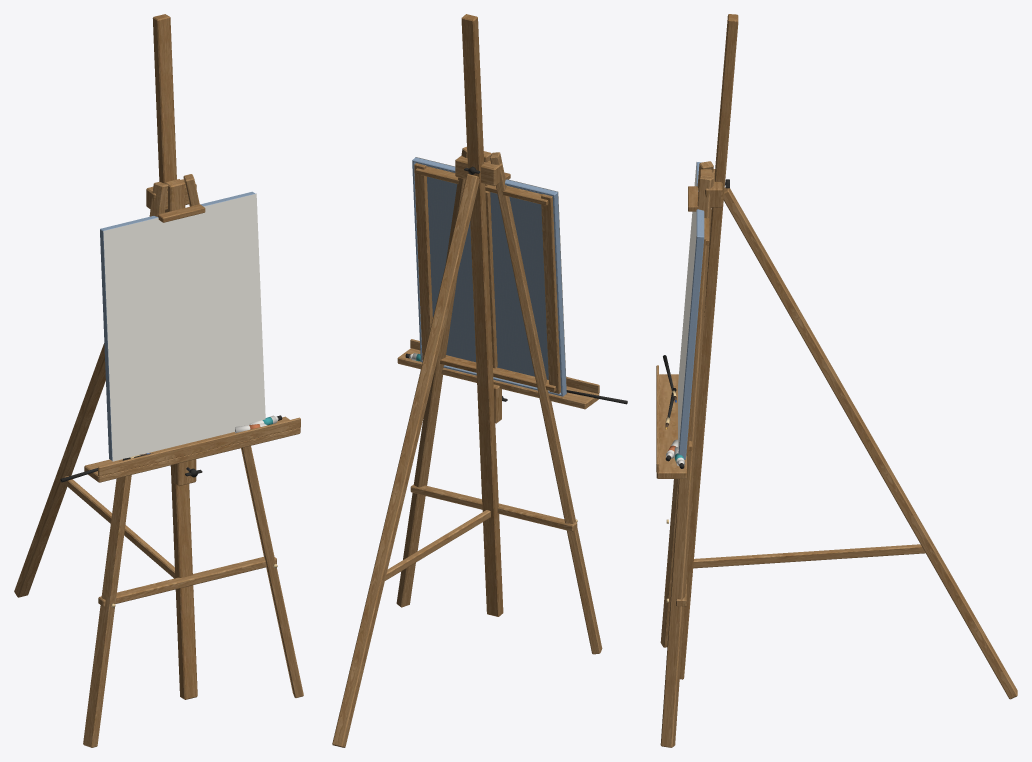
The model's file is sztaluga.glb.
3 renders of one model, left to right at view 1: azimuth 30°, elevation 25°; view 2: azimuth 150°, elevation 25°; view 3: azimuth 270°, elevation 25°, orthographic. The views are drawn at different scales.
Parts seen in each view (by area): view 1: plotno_front, maszt, noga_-1, noga_tyl, noga_1, polka_listwa, poprzeczka, polka, rozporka, len_b-1, docisk, polka_wspornik; view 2: len_tyl, maszt, noga_tyl, noga_-1, noga_1, blejtram_b-1, blejtram_b1, poprzeczka, polka, len_b-1, rozporka, blejtram_s (+5 smaller); view 3: noga_tyl, maszt, noga_1, rozporka, len_b1, polka, plotno_front, noga_-1.
Part boxes in pixels (bbox=[...]): plotno_front: bbox=[103, 193, 265, 461]; maszt: bbox=[152, 14, 197, 699]; noga_-1: bbox=[83, 181, 168, 747]; noga_tyl: bbox=[14, 343, 105, 597]; noga_1: bbox=[183, 174, 303, 697]; polka_listwa: bbox=[98, 417, 300, 476]; poprzeczka: bbox=[98, 556, 276, 606]; polka: bbox=[84, 416, 300, 482]; rozporka: bbox=[63, 476, 186, 587]; len_b-1: bbox=[100, 228, 112, 458]; docisk: bbox=[165, 179, 185, 212]; polka_wspornik: bbox=[172, 459, 196, 485]; len_tyl: bbox=[426, 165, 566, 394]; maszt: bbox=[461, 14, 503, 616]; noga_tyl: bbox=[332, 174, 479, 747]; noga_-1: bbox=[490, 152, 602, 654]; noga_1: bbox=[396, 146, 467, 607]; blejtram_b-1: bbox=[541, 194, 560, 393]; blejtram_b1: bbox=[414, 163, 432, 360]; poprzeczka: bbox=[410, 484, 577, 531]; polka: bbox=[397, 348, 599, 409]; len_b-1: bbox=[552, 191, 566, 395]; rozporka: bbox=[385, 510, 490, 580]; blejtram_s: bbox=[485, 191, 497, 368]; noga_tyl: bbox=[723, 187, 1017, 699]; maszt: bbox=[679, 14, 738, 679]; noga_1: bbox=[660, 176, 713, 747]; rozporka: bbox=[693, 544, 925, 568]; len_b1: bbox=[678, 235, 704, 459]; polka: bbox=[656, 374, 686, 478]; plotno_front: bbox=[678, 162, 696, 453]; noga_-1: bbox=[660, 161, 713, 647].
Size of the model in its own units: 0.7964 by 2.13 by 1.02.
14 materials, 3 textured.
